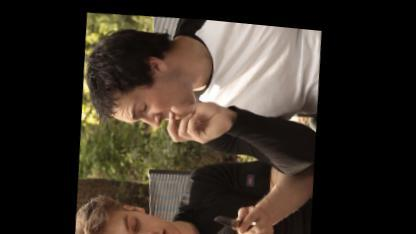knife: (208, 198, 270, 233)
